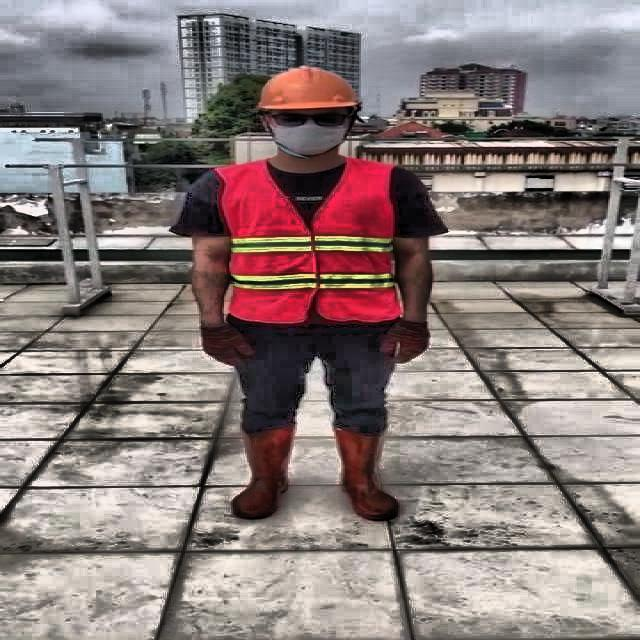safety_helmet: (251, 62, 361, 112)
safety_jacket: (220, 158, 406, 321)
